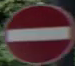No entry: (9, 6, 69, 54)
